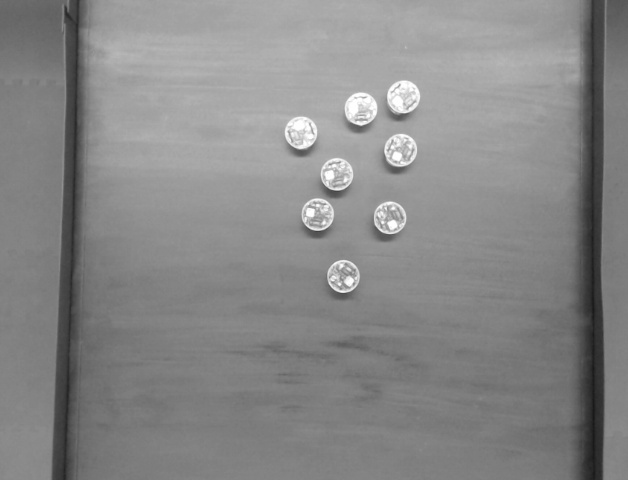epuck_2: (295, 195, 336, 245), (382, 129, 422, 175), (325, 257, 366, 298), (385, 79, 425, 117), (372, 200, 407, 240), (283, 114, 319, 151), (344, 89, 378, 126), (321, 158, 355, 194)
